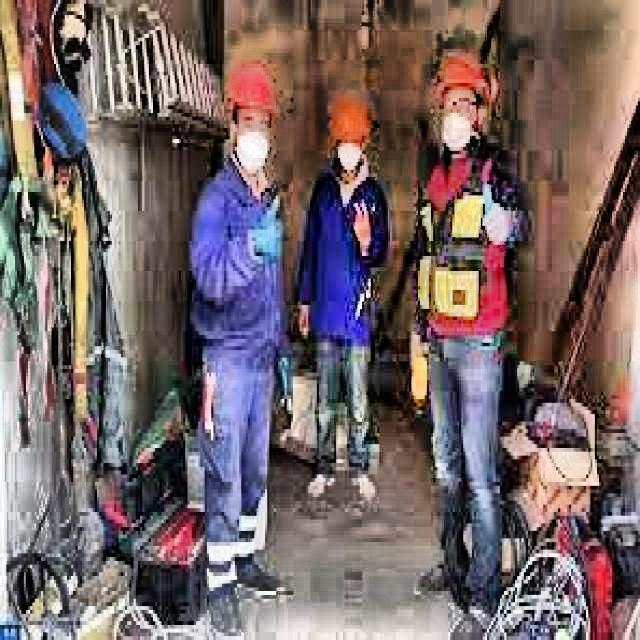safety_helmet: (434, 55, 497, 106), (227, 58, 280, 110), (330, 108, 368, 144)
safety_jacket: (408, 150, 518, 350)
